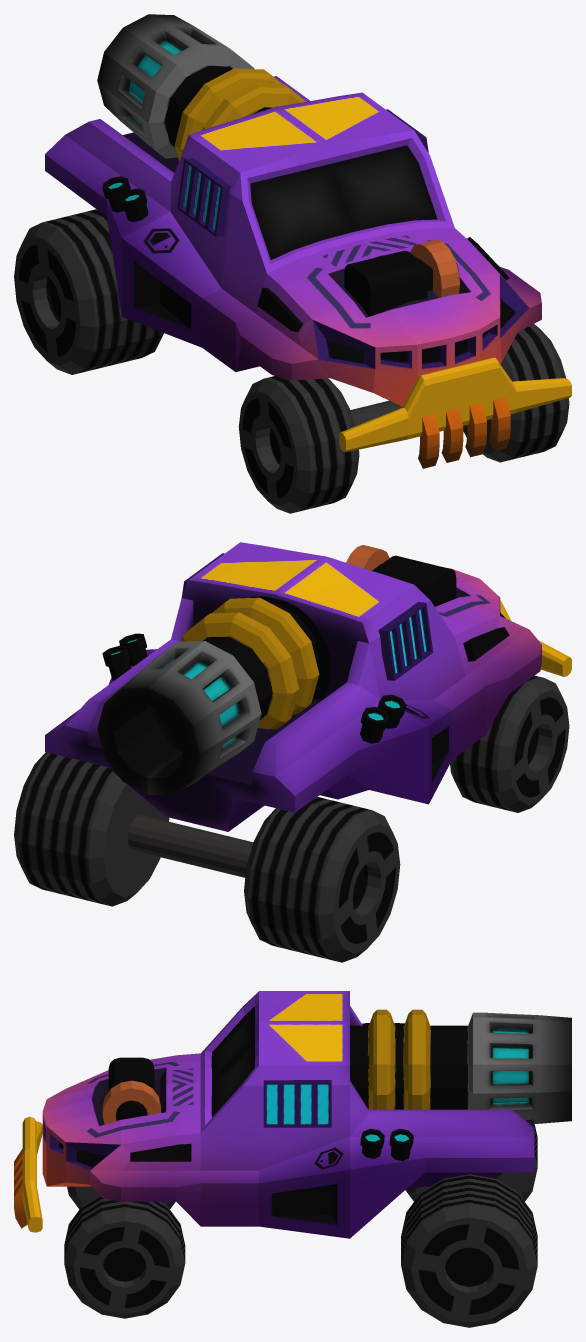
Rendered from Car-9.fbx.
3 renders of one model, top to bottom at view 1: azimuth 30°, elevation 25°; view 2: azimuth 150°, elevation 25°; view 3: azimuth 270°, elevation 25°, orthographic. The views are drawn at different scales.
Visible parts, largest first — view 1: Cube.216, Cylinder.245, Cylinder.248, Cylinder.246, Plane.044, Cube.213, Cube.214, Cube.215, Cylinder.247, Cylinder.249; view 2: Cube.216, Cylinder.246, Cylinder.248, Cylinder.245, Cube.215, Cylinder.249, Cube.213, Plane.044, Cylinder.247; view 3: Cube.216, Cylinder.248, Cylinder.246, Cylinder.245, Cube.215, Plane.044, Cylinder.247, Cylinder.249, Cube.213, Cube.214.
Boxes of the visible parts, x1=… form: Cube.216: x1=45, y1=76, x2=541, y2=406; Cylinder.245: x1=238, y1=324, x2=569, y2=513; Cylinder.248: x1=97, y1=14, x2=306, y2=160; Cylinder.246: x1=14, y1=209, x2=163, y2=374; Plane.044: x1=339, y1=357, x2=571, y2=452; Cube.213: x1=344, y1=250, x2=432, y2=316; Cube.214: x1=418, y1=396, x2=510, y2=468; Cube.215: x1=177, y1=109, x2=428, y2=236; Cylinder.247: x1=410, y1=239, x2=459, y2=297; Cylinder.249: x1=102, y1=176, x2=148, y2=221; Cube.216: x1=45, y1=542, x2=541, y2=831; Cylinder.246: x1=14, y1=752, x2=400, y2=962; Cylinder.248: x1=97, y1=597, x2=319, y2=794; Cylinder.245: x1=450, y1=675, x2=569, y2=812; Cube.215: x1=182, y1=553, x2=433, y2=680; Cylinder.249: x1=102, y1=633, x2=406, y2=743; Cube.213: x1=372, y1=555, x2=456, y2=606; Plane.044: x1=500, y1=600, x2=571, y2=676; Cylinder.247: x1=346, y1=545, x2=389, y2=570; Cube.216: x1=42, y1=991, x2=534, y2=1238; Cylinder.248: x1=350, y1=1009, x2=571, y2=1123; Cylinder.246: x1=401, y1=1124, x2=537, y2=1327; Cylinder.245: x1=64, y1=1186, x2=185, y2=1318; Cube.215: x1=263, y1=1080, x2=331, y2=1127; Plane.044: x1=22, y1=1116, x2=42, y2=1232; Cylinder.247: x1=102, y1=1080, x2=161, y2=1124; Cylinder.249: x1=360, y1=1023, x2=413, y2=1160; Cube.213: x1=108, y1=1057, x2=154, y2=1091; Cube.214: x1=14, y1=1149, x2=27, y2=1228.
Bounding box in the file's own units: 251 × 214 × 434.
